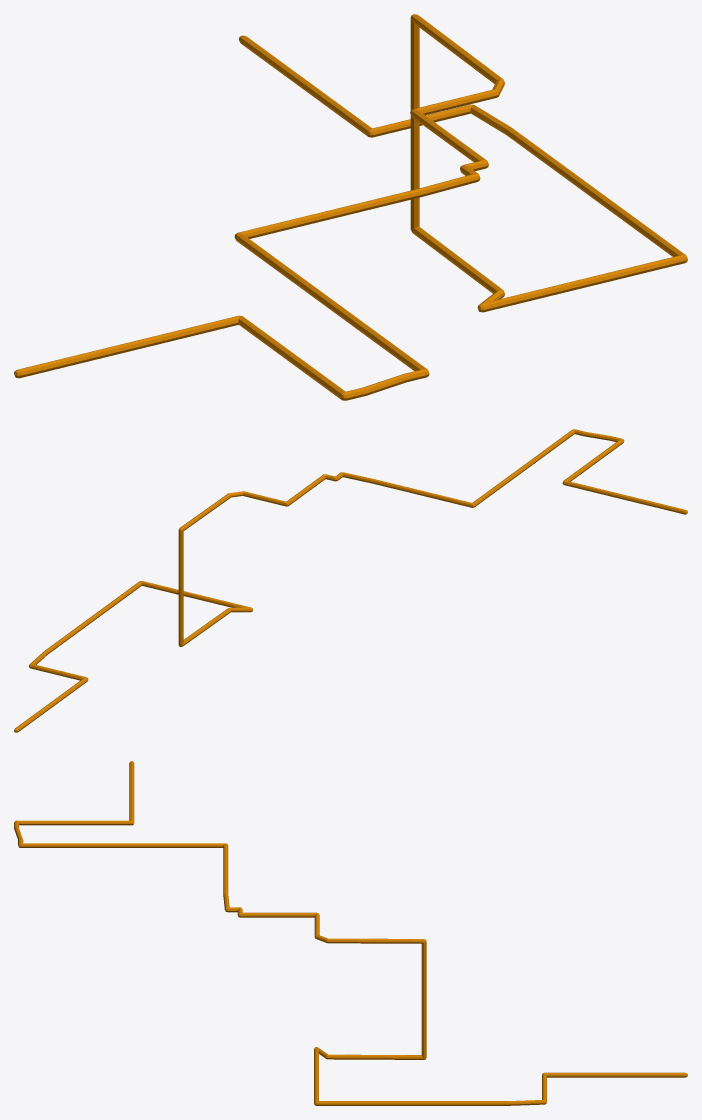
3 renders of one model, top to bottom at view 1: azimuth 30°, elevation 25°; view 2: azimuth 150°, elevation 25°; view 3: azimuth 270°, elevation 25°, orthographic. The views are drawn at different scales.
Size of the model in its own units: 2087 by 520 by 2630.
